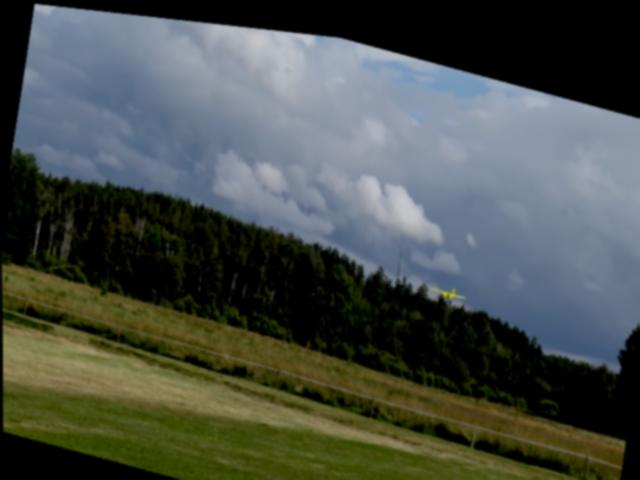plane: (428, 270, 466, 297)
